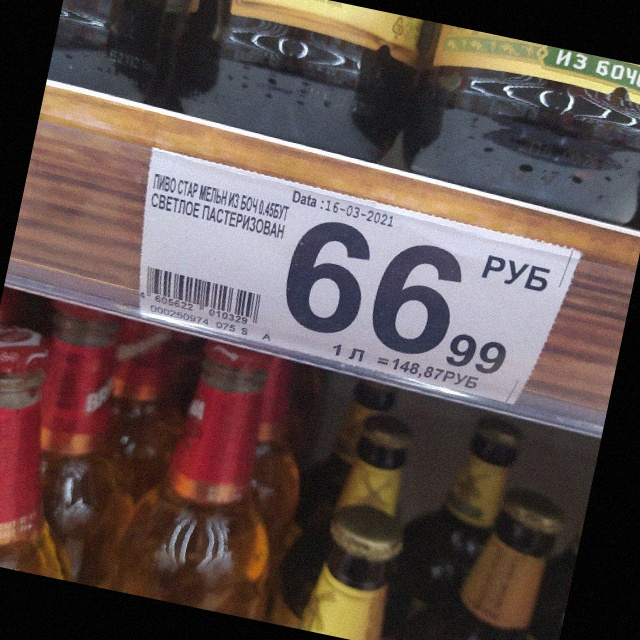barcode: (138, 263, 264, 327)
name: (147, 167, 291, 245)
price: (284, 213, 509, 380)
price_tag: (137, 143, 564, 419)
